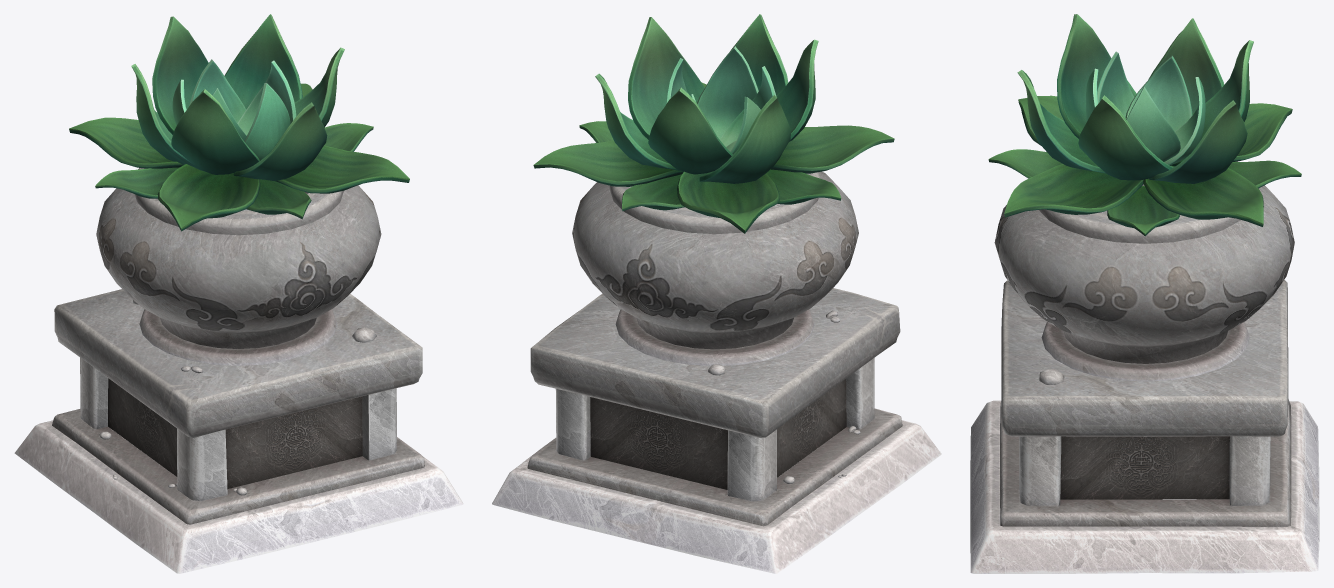
File: SM_LotusStatue.glb
3 renders of one model, left to right at view 1: azimuth 30°, elevation 25°; view 2: azimuth 150°, elevation 25°; view 3: azimuth 270°, elevation 25°, orthographic. The views are drawn at different scales.
Visible parts, largest first — view 1: SM_LotusStatue_LOD0; view 2: SM_LotusStatue_LOD0; view 3: SM_LotusStatue_LOD0.
Boxes of the visible parts, x1,y1,x2,y2 form: SM_LotusStatue_LOD0: (14,14,463,573); SM_LotusStatue_LOD0: (492,14,941,573); SM_LotusStatue_LOD0: (970,14,1319,573).
Bounding box in the file's own units: 1.49 × 2.13 × 1.49.
2 materials, 2 textured.
